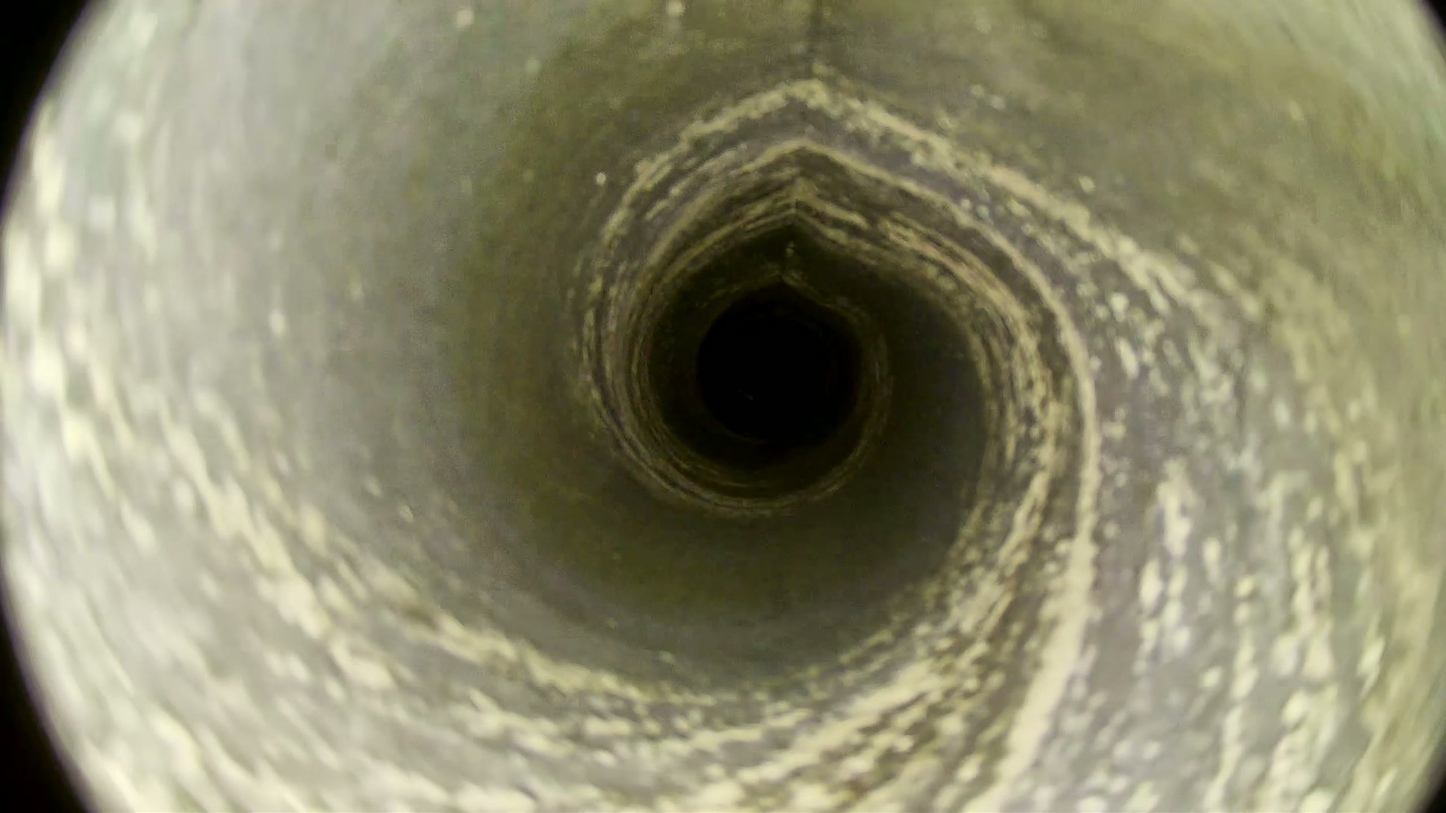hole: (698, 303, 841, 441)
